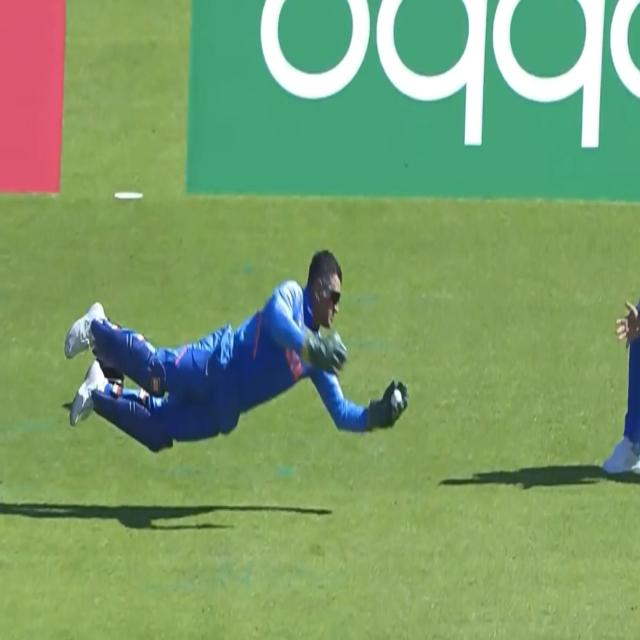ball: (382, 383, 409, 417)
